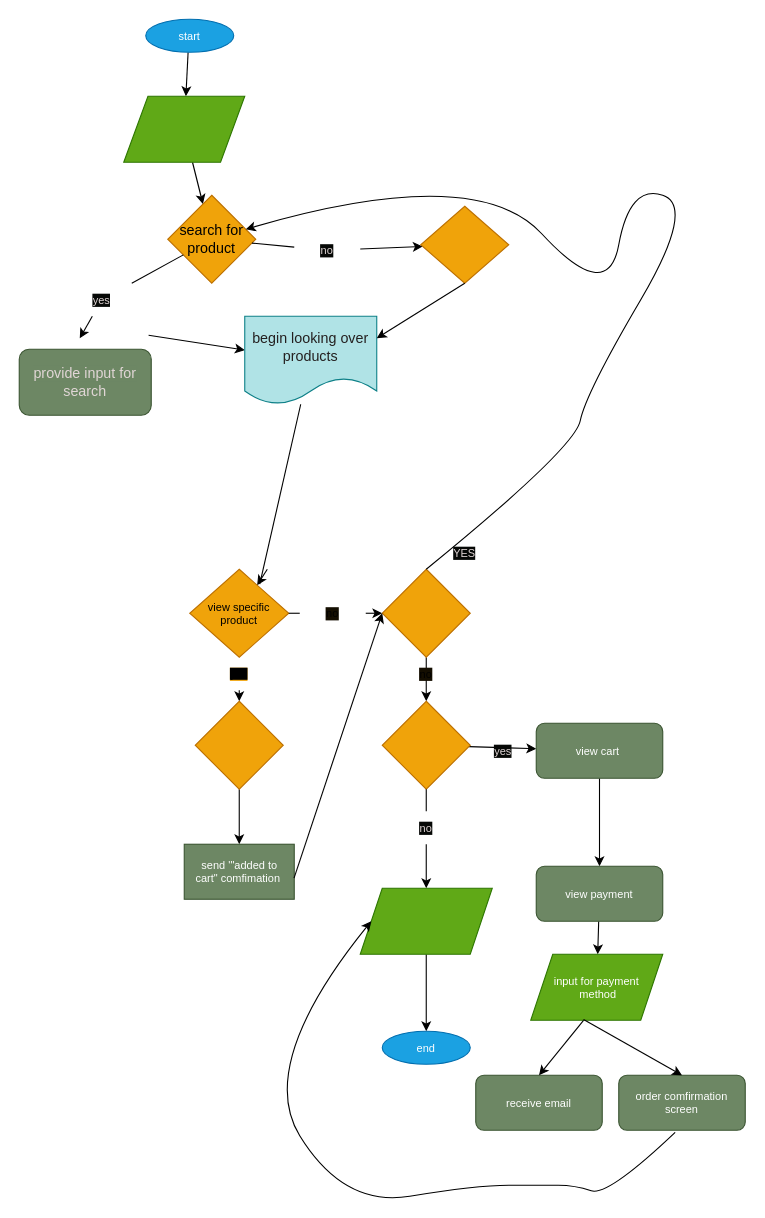
Image size: 765x1218. Some labels were removed from this diagram. Each missing label, with the centre of its shape:
add to cart: [238,744]
checkout: [425,744]
continue shopping: [425,612]
enter website (home page): [184,128]
explore products: [464,244]
leave website: [425,920]
